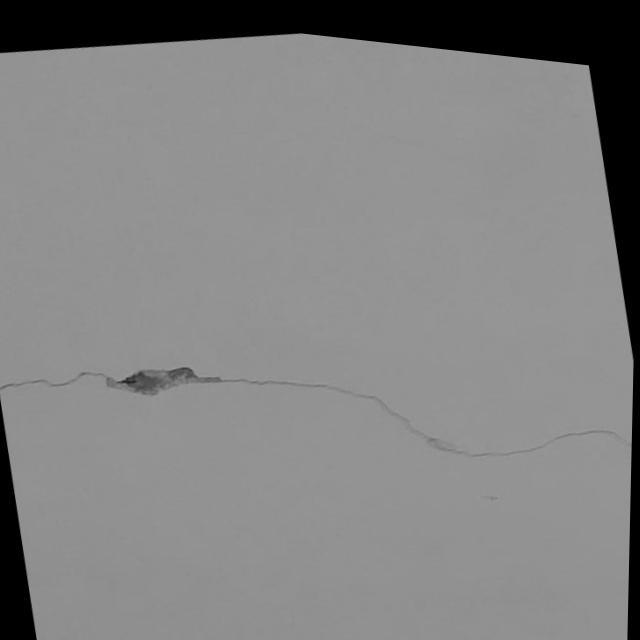Crack: (11, 362, 626, 458)
